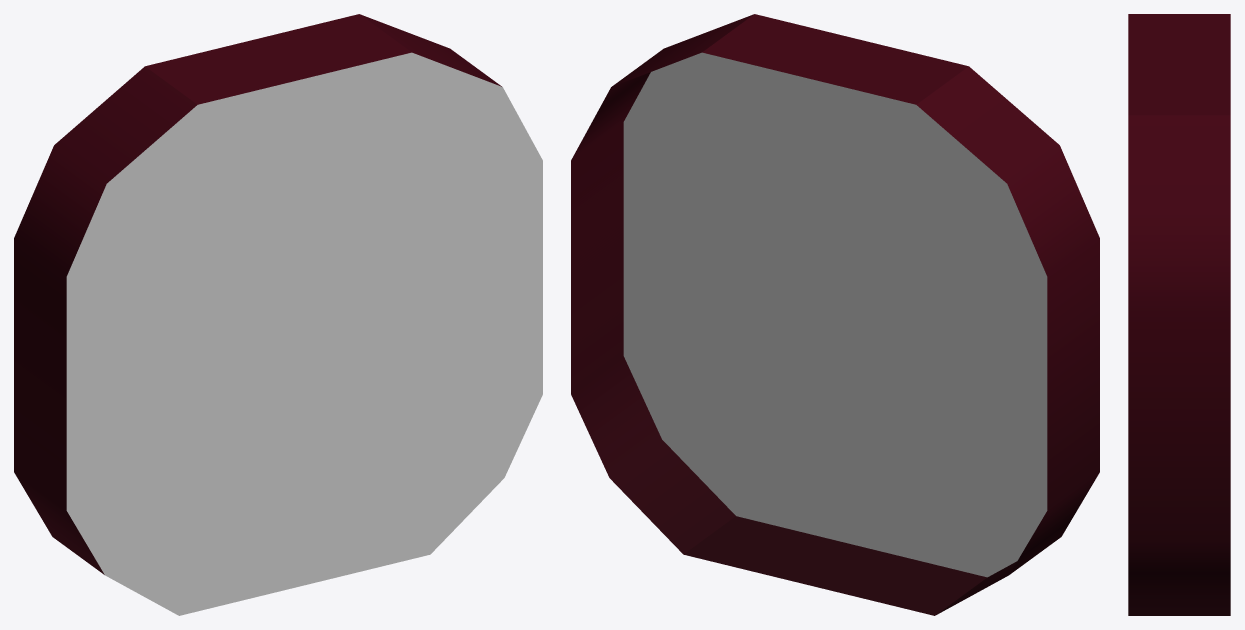
File: findFourTRex.fbx
3 views of the same model, side by side, from view 1: azimuth 30°, elevation 25°; view 2: azimuth 150°, elevation 25°; view 3: azimuth 270°, elevation 25° (orthographic). The views are drawn at different scales.
Visible parts, largest first — view 1: findFourTRex; view 2: findFourTRex; view 3: findFourTRex.
Part boxes in pixels (left/top/right/bottom): findFourTRex: left=14, top=14, right=542, bottom=615; findFourTRex: left=571, top=14, right=1099, bottom=615; findFourTRex: left=1128, top=14, right=1230, bottom=615.
Size of the model in its own units: 7.32 by 7.44 by 1.4.
